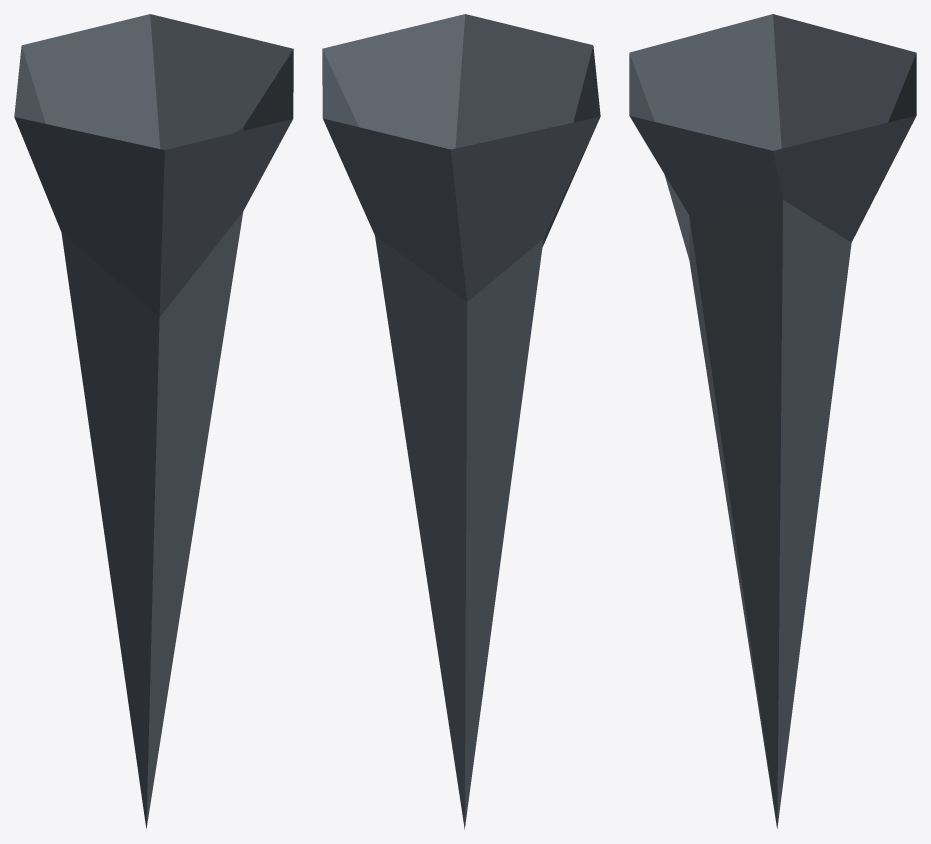
File: Stalacmite-B07.fbx
3 renders of one model, left to right at view 1: azimuth 30°, elevation 25°; view 2: azimuth 150°, elevation 25°; view 3: azimuth 270°, elevation 25°, orthographic.
Parts seen in each view (by area): view 1: Stalacmite-B07; view 2: Stalacmite-B07; view 3: Stalacmite-B07.
Part boxes in pixels (x1,y1,x2,y2): Stalacmite-B07: (14, 14, 293, 829); Stalacmite-B07: (322, 14, 600, 829); Stalacmite-B07: (629, 14, 916, 828).
Size of the model in its own units: 64.15 by 164 by 56.91.
